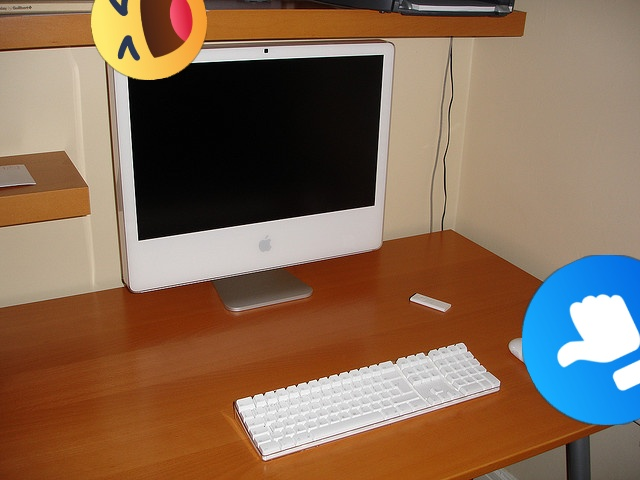haha: (91, 0, 207, 80)
like: (522, 255, 640, 425)
